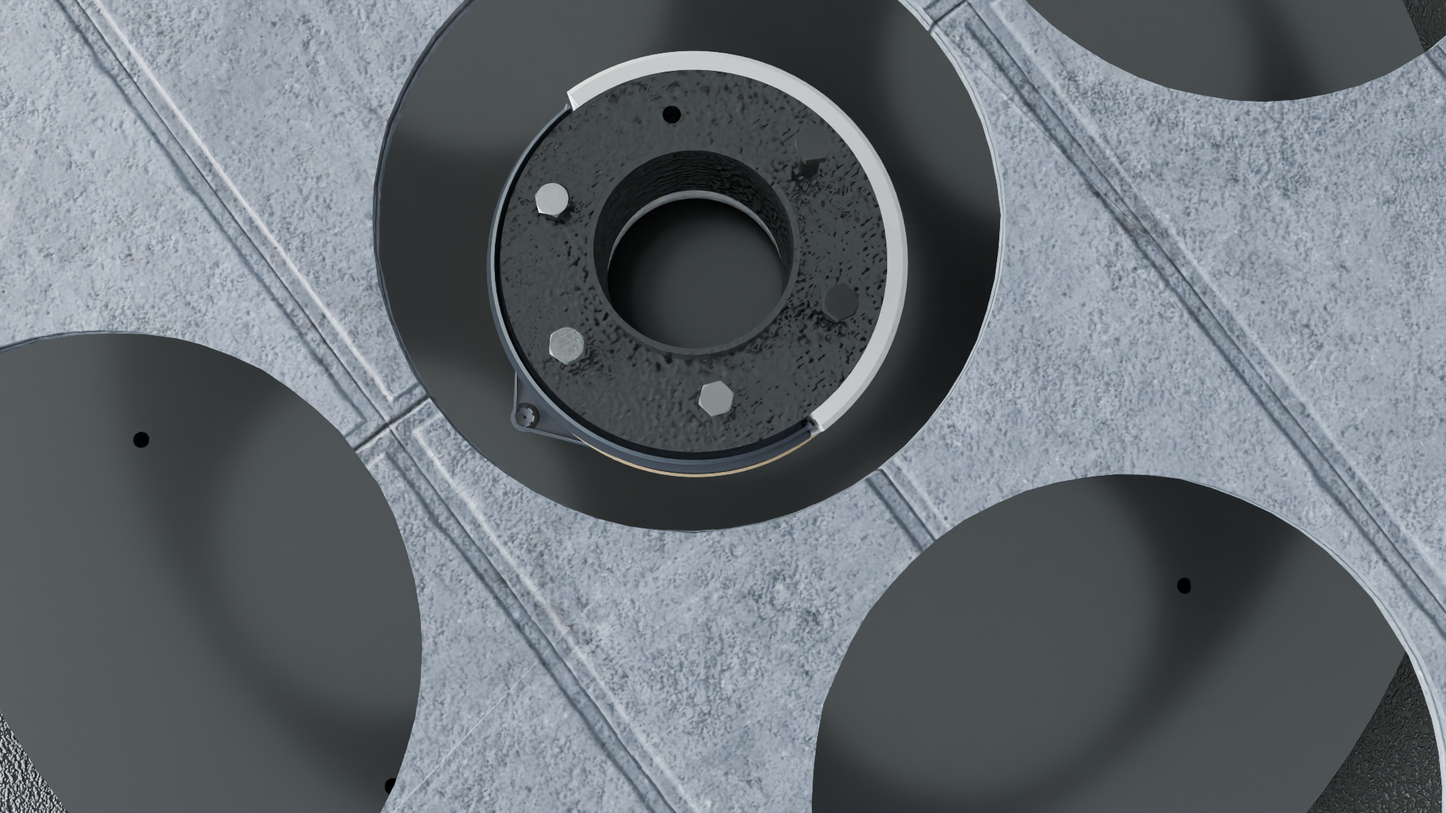bolt: (794, 123, 834, 160), (823, 283, 859, 321), (550, 326, 585, 364), (535, 182, 571, 218), (699, 380, 734, 416)
